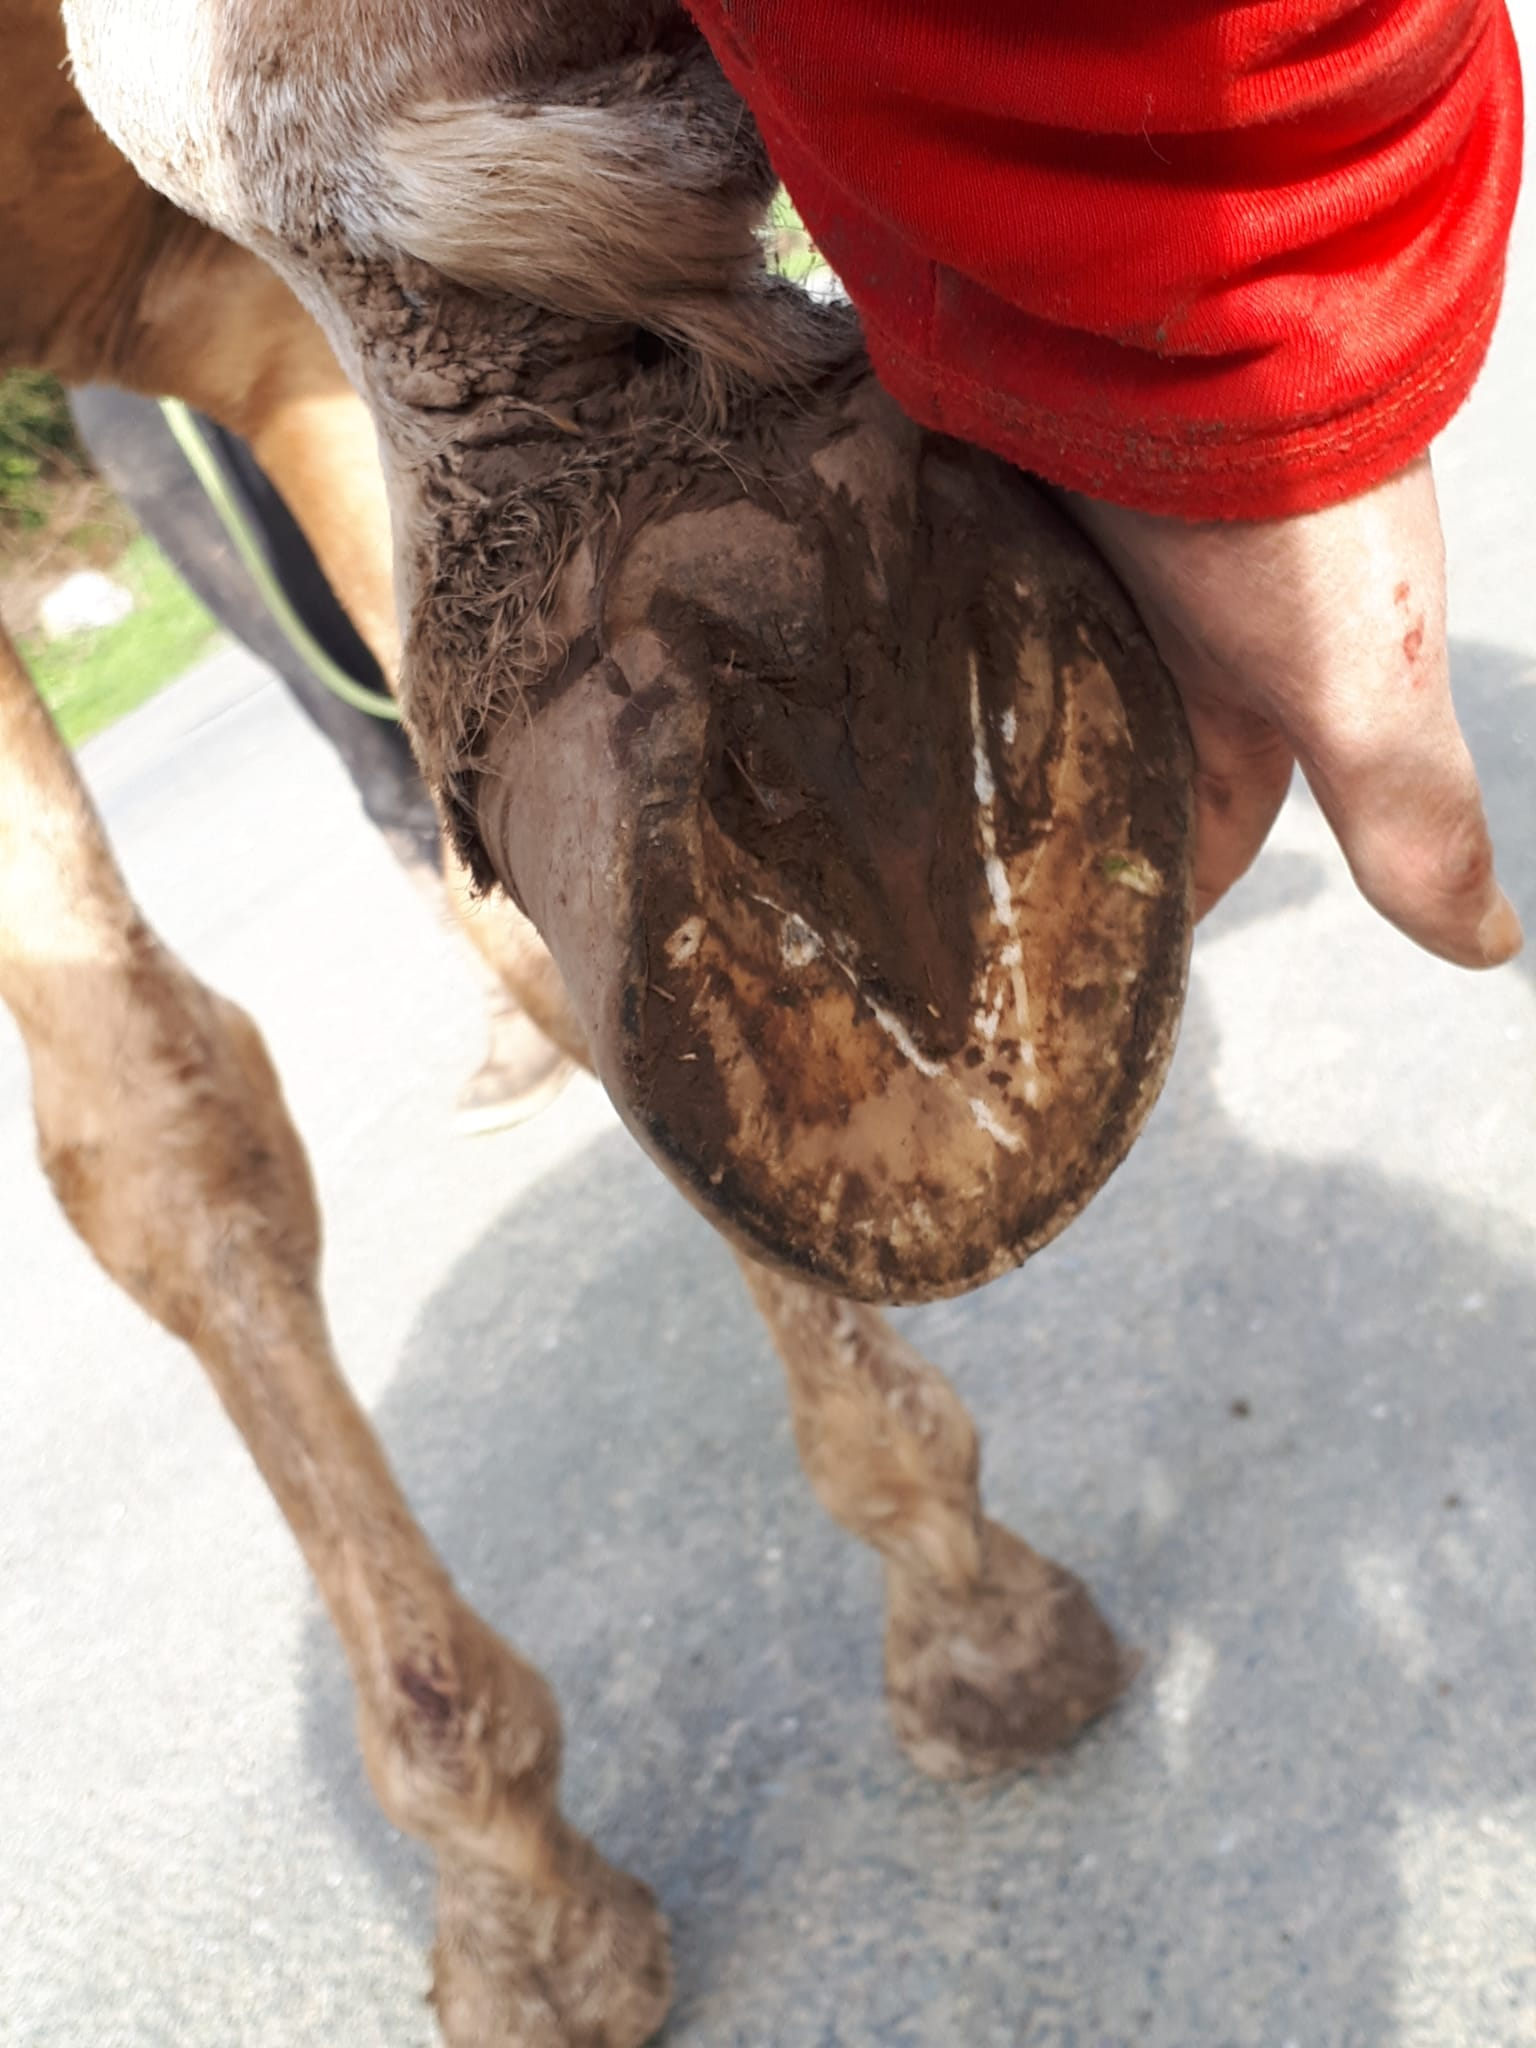horsesole: (611, 506, 1199, 1306)
